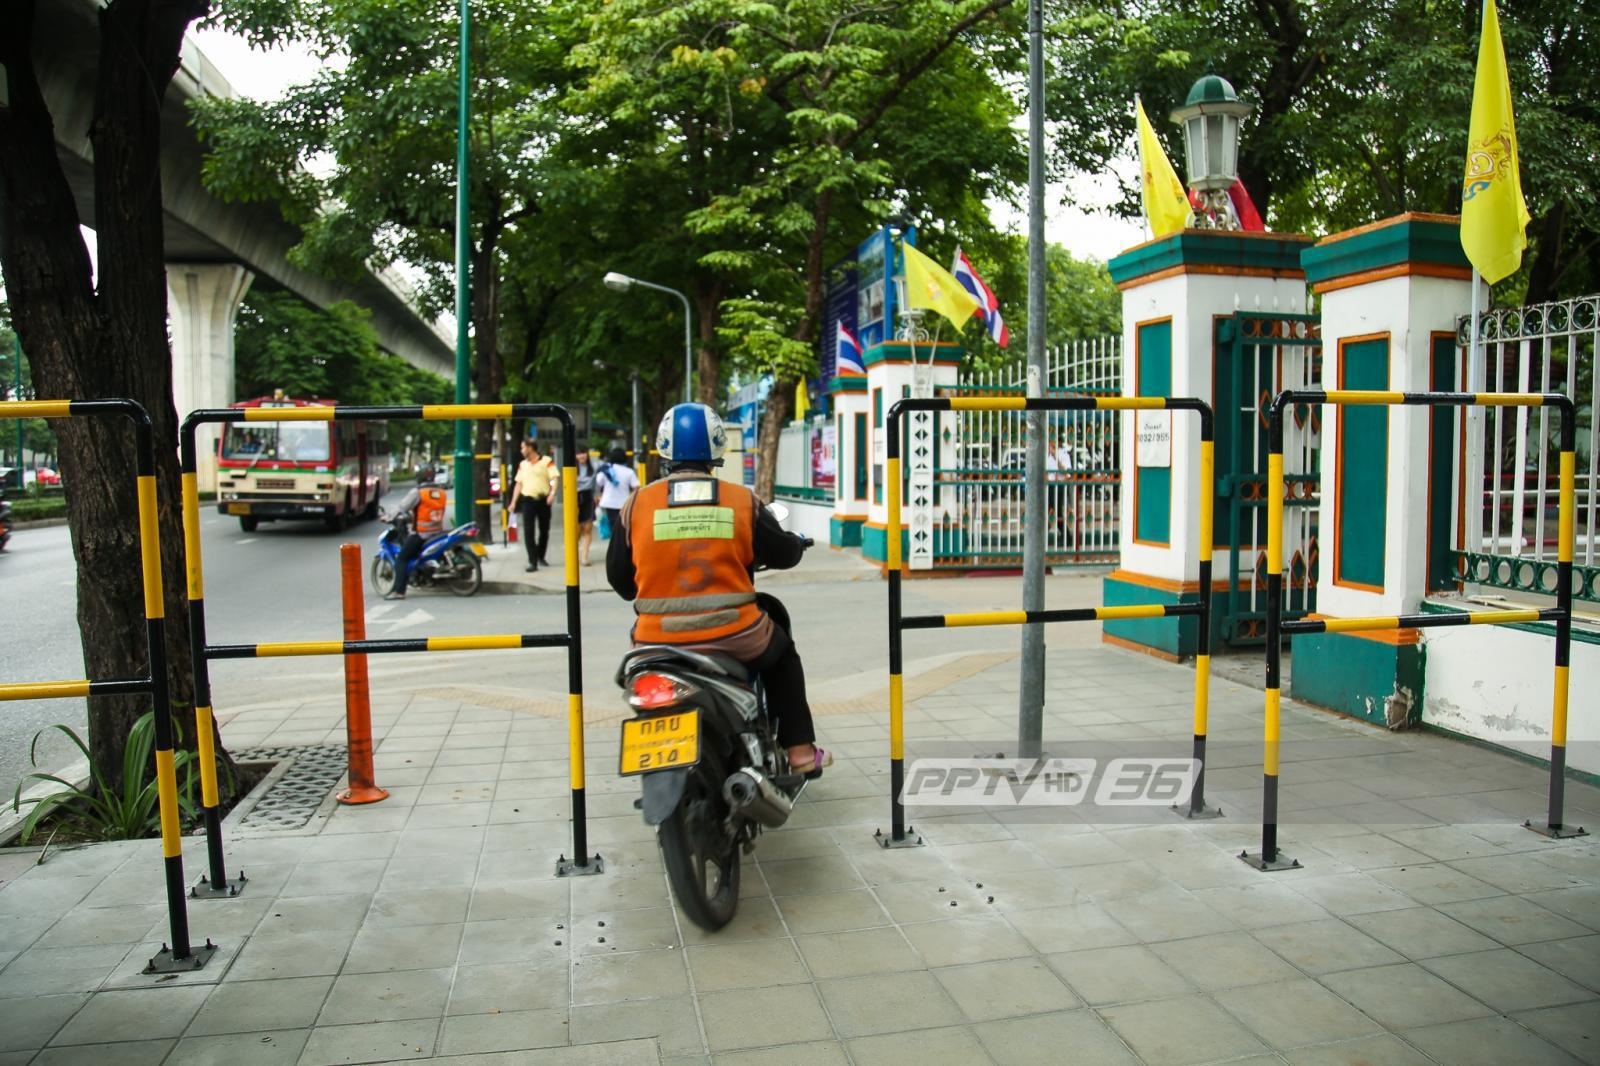helmet: (650, 401, 738, 478), (410, 462, 447, 487)
motorcycle: (600, 589, 833, 945), (366, 506, 491, 592)
